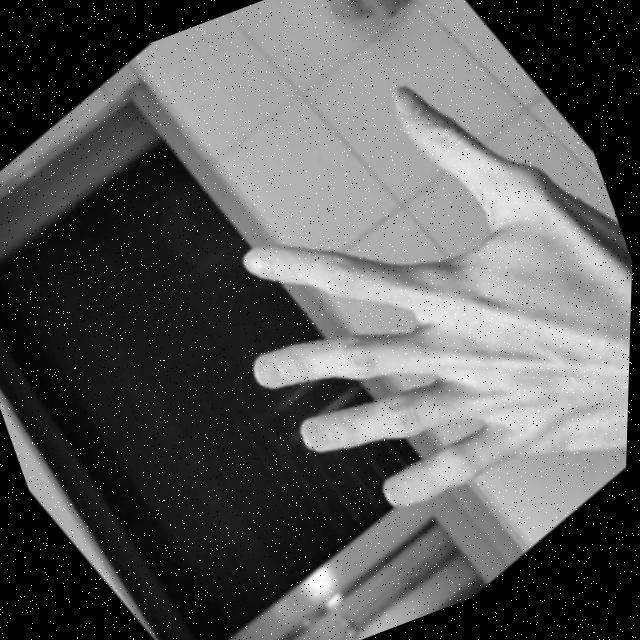no-gloves: (163, 21, 640, 583)
